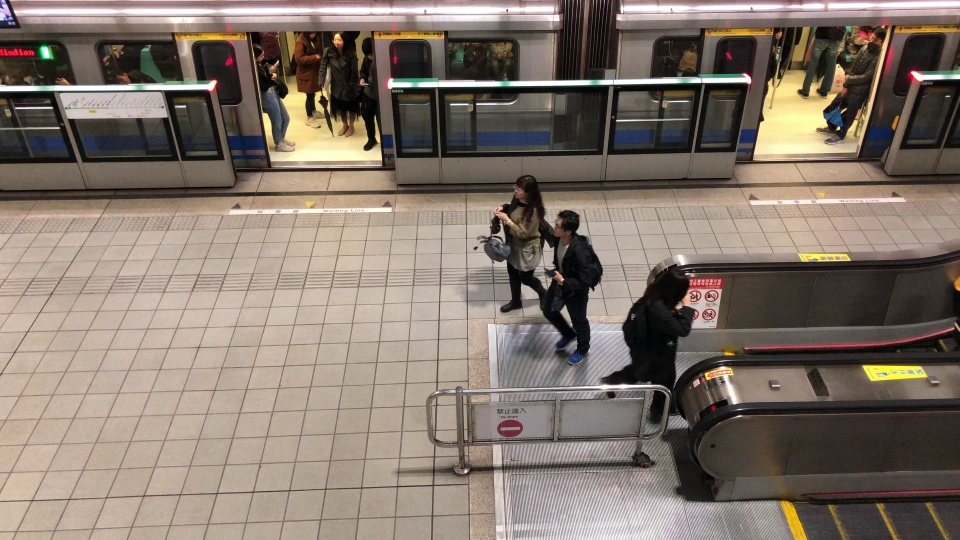person_head: (644, 265, 688, 308), (510, 175, 542, 208), (553, 209, 581, 242), (360, 36, 377, 61), (869, 26, 887, 49), (250, 43, 266, 62), (332, 31, 345, 51), (304, 28, 317, 41)
person_vbox: (593, 264, 696, 422), (535, 209, 602, 367), (483, 174, 551, 316), (815, 26, 888, 149), (248, 43, 296, 152), (319, 31, 361, 137), (355, 35, 387, 152), (793, 26, 843, 98), (292, 27, 325, 130)
